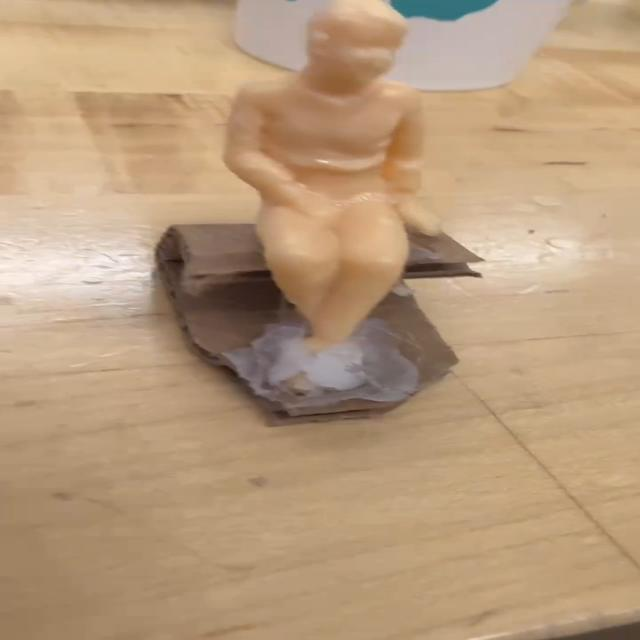Unauthorized: (171, 4, 469, 392)
